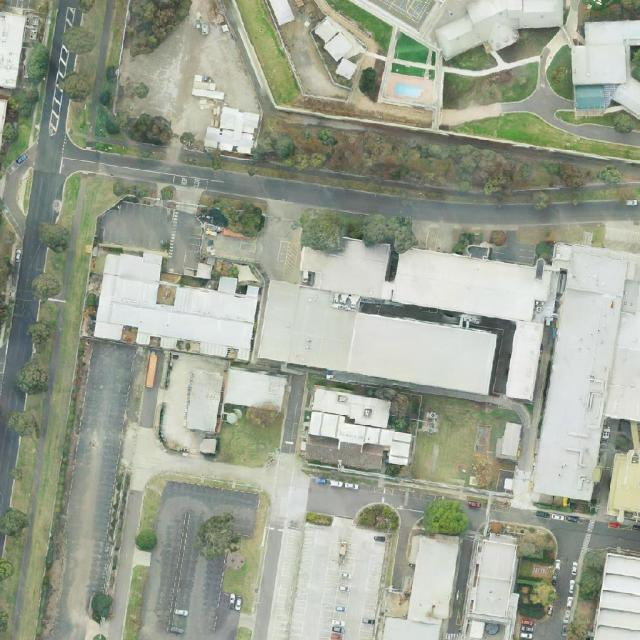building: (257, 279, 501, 398), (296, 234, 553, 325), (93, 246, 263, 363), (303, 386, 421, 467), (407, 531, 462, 627), (303, 12, 374, 85), (467, 532, 522, 620), (594, 552, 640, 639), (504, 319, 544, 402), (202, 103, 262, 158), (223, 367, 289, 414), (183, 369, 224, 433), (0, 12, 26, 87)
dryland: (91, 0, 268, 168)
greenland: (261, 114, 600, 212), (234, 0, 302, 107), (503, 516, 569, 622), (296, 208, 418, 259), (93, 89, 178, 148), (186, 505, 248, 565), (205, 190, 270, 241), (57, 20, 101, 63), (422, 498, 469, 536), (390, 32, 432, 70), (57, 67, 96, 106), (21, 41, 54, 86), (27, 268, 65, 304), (15, 360, 50, 396), (355, 504, 399, 530), (39, 220, 71, 254), (0, 231, 15, 303), (85, 589, 115, 625), (577, 564, 603, 602), (6, 411, 39, 437), (15, 87, 40, 119), (112, 178, 152, 198), (597, 164, 622, 188), (567, 614, 590, 640), (31, 322, 53, 347), (135, 529, 158, 551), (2, 123, 18, 144), (520, 621, 535, 640)
metalled_road: (48, 340, 138, 640), (138, 478, 260, 640), (93, 193, 209, 277), (540, 510, 606, 602), (205, 233, 303, 283), (383, 487, 430, 552), (307, 482, 383, 521), (267, 200, 302, 242), (607, 521, 640, 556), (585, 519, 617, 551), (576, 518, 596, 569), (390, 544, 409, 591), (581, 519, 596, 551), (492, 496, 513, 513), (407, 499, 426, 511)
unmetalled_road: (441, 39, 541, 86), (439, 102, 503, 128)
